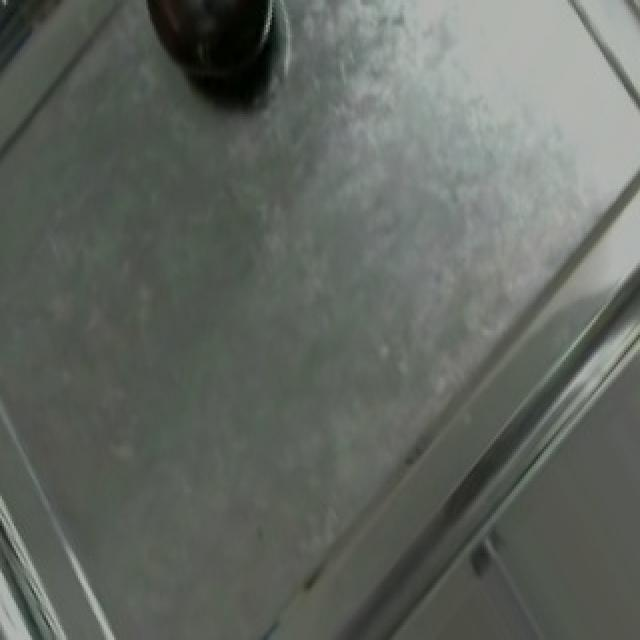Fruit: (124, 0, 296, 112)
